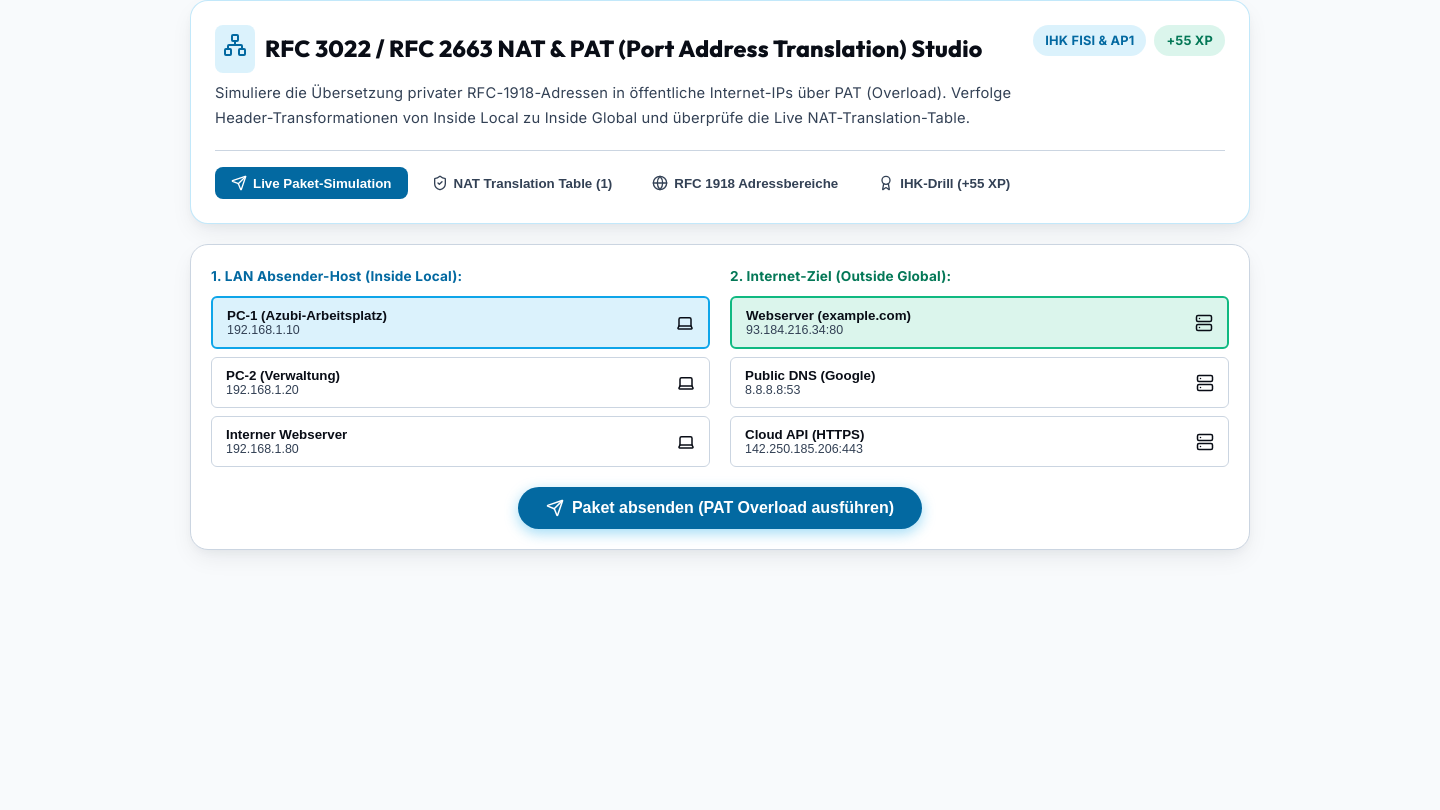
Test: NatPatSimulatorLab › führt eine Paket-Simulation aus und zeigt Header-Transformation
This screenshot has width=1440, height=810.
Click the button "Paket absenden (PAT Overload ausführen)".
click(720, 508)  # box [518, 487, 922, 529]
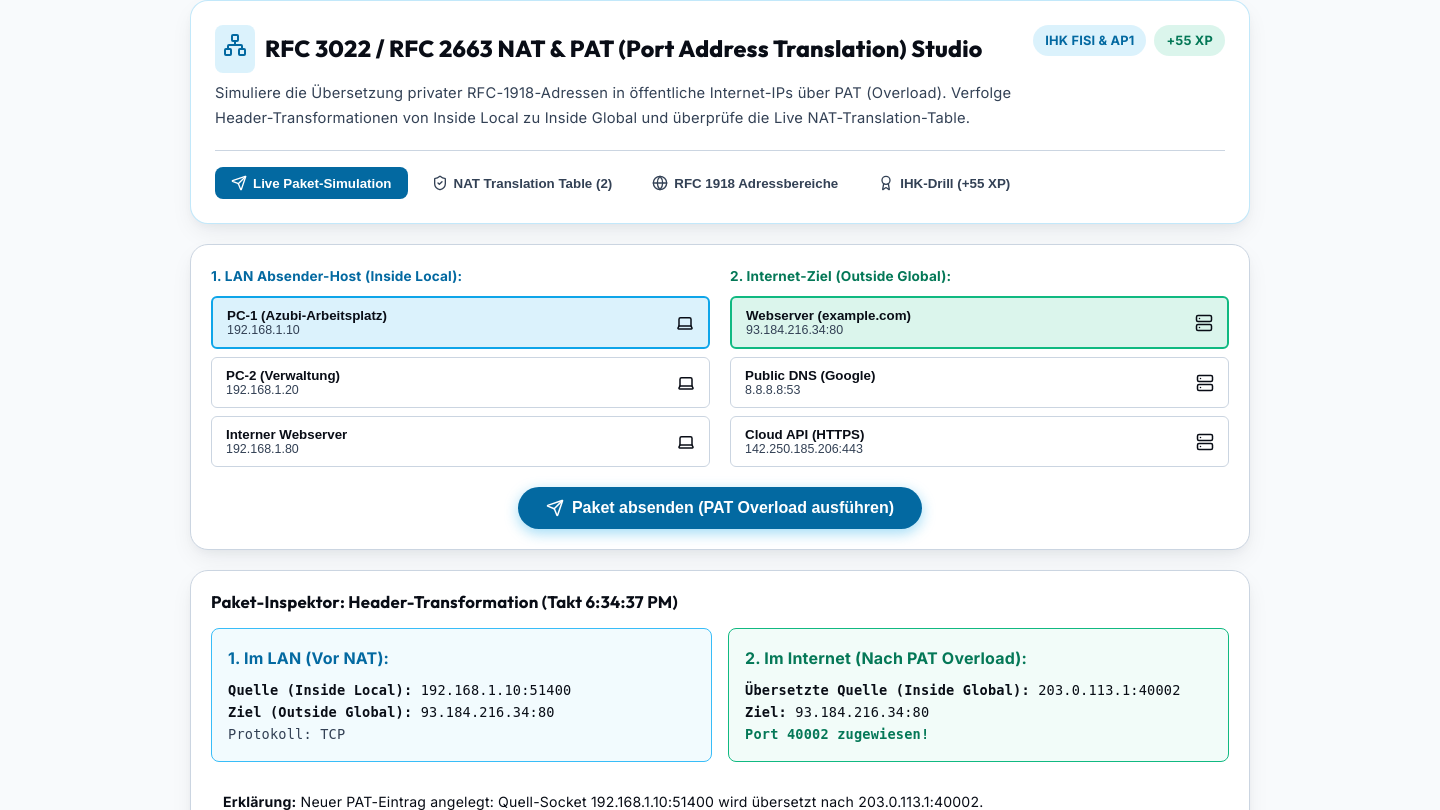
expect the heading "Paket-Inspektor: Header-Transformation (Takt 6:34:37 PM)" is shown: met, box [211, 591, 678, 612]
expect the text "1. Im LAN (Vor NAT):" is shown: met, box [228, 648, 389, 668]
